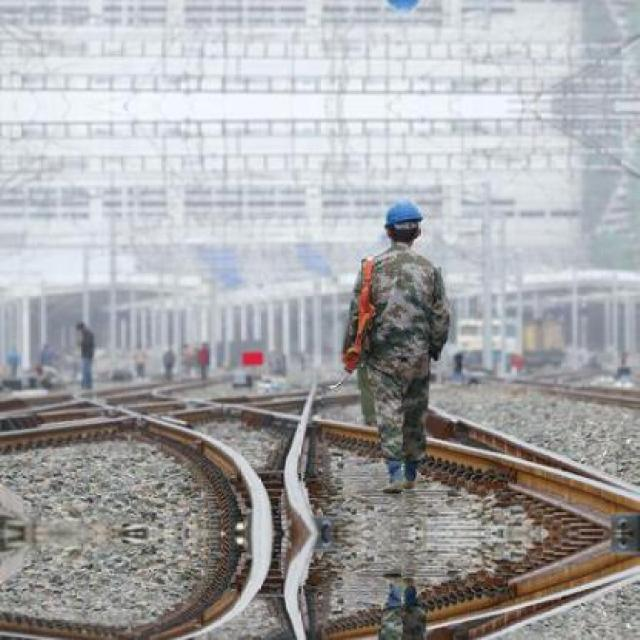helmet: (379, 194, 424, 242), (378, 0, 424, 19)
